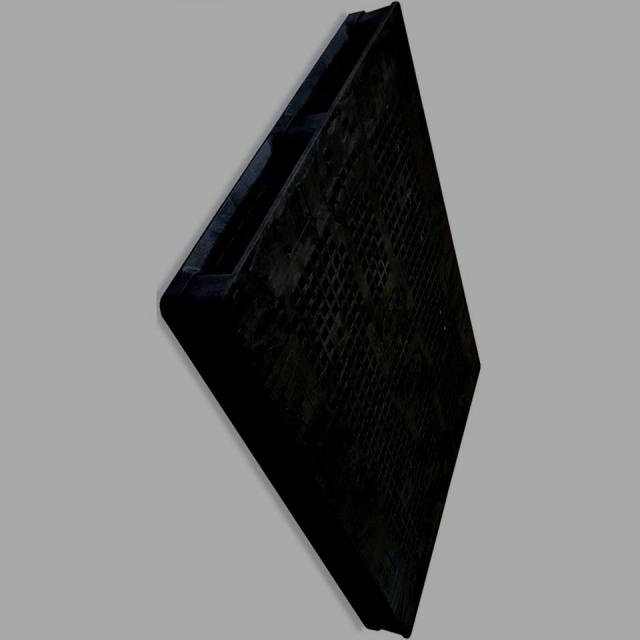non-igps: (156, 0, 484, 640)
